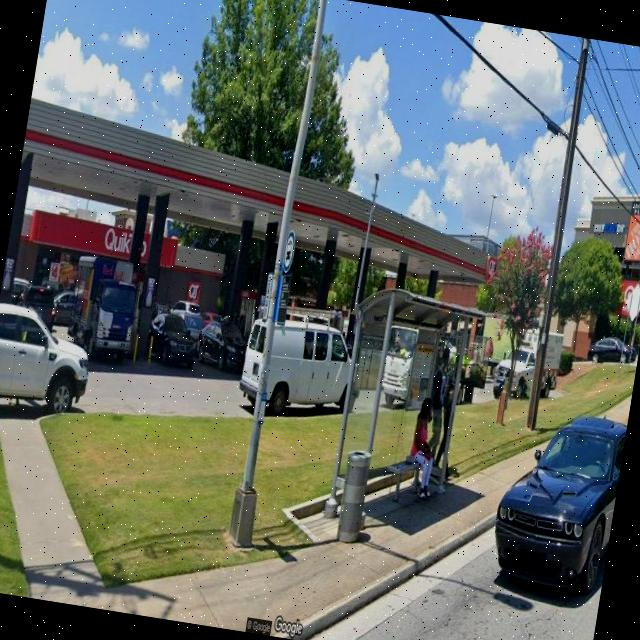seating: (386, 452, 438, 498)
shelter: (325, 282, 487, 524)
trash_can: (336, 448, 372, 544)
